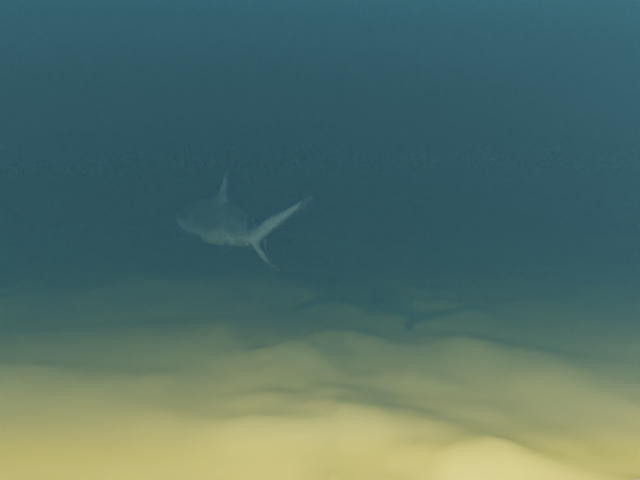Carribean Shark.001: (148, 170, 313, 271)
